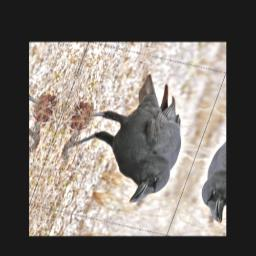Crow: (50, 61, 204, 210)
